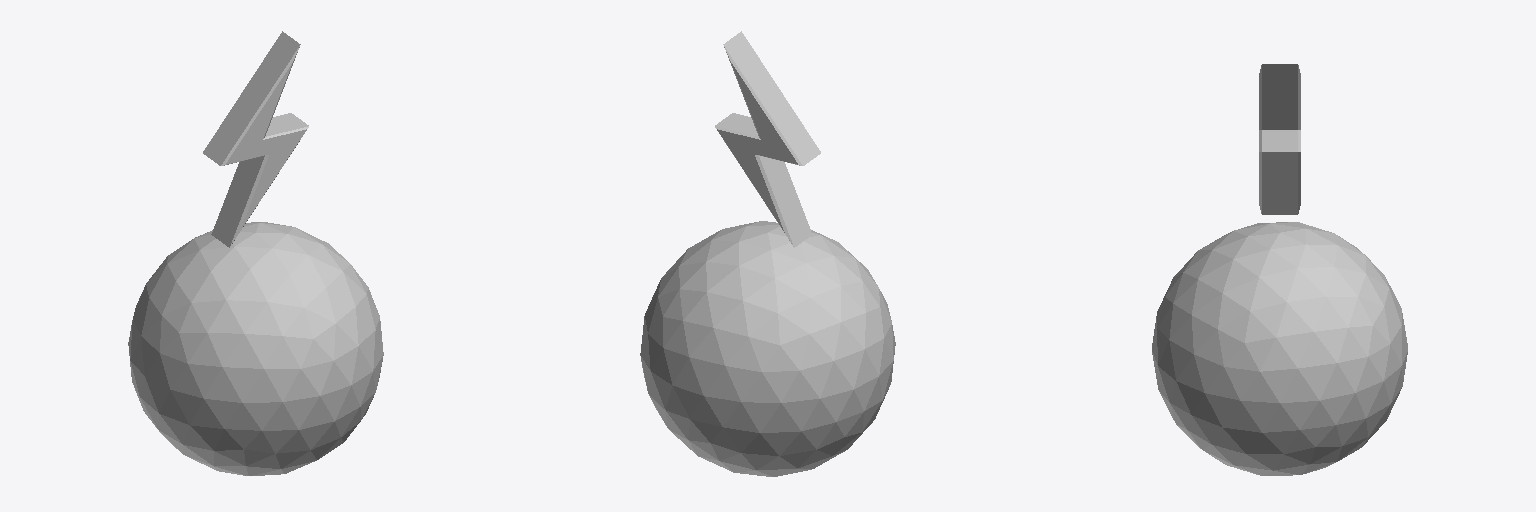
Rendered from generator.obj.
The picture shows the model from 3 angles: view 1: azimuth 30°, elevation 25°; view 2: azimuth 150°, elevation 25°; view 3: azimuth 270°, elevation 25°; orthographic projection.
Parts seen in each view (by area): view 1: Icosphere.001; view 2: Icosphere.001; view 3: Icosphere.001.
Boxes of the visible parts, box(x1,y1,x2,y2) form: Icosphere.001: box(128, 31, 383, 475); Icosphere.001: box(640, 31, 895, 476); Icosphere.001: box(1152, 64, 1407, 475).
Size of the model in its own units: 1 by 1.8 by 1.